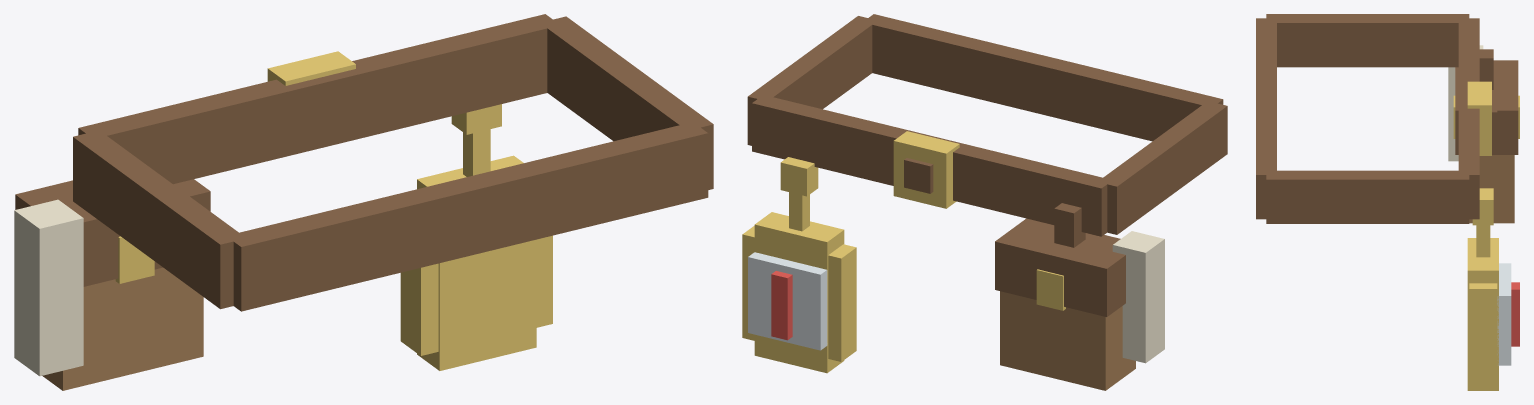
File: cinto_bussola_mapas.glb
The picture shows the model from 3 angles, left to right: view 1: azimuth 30°, elevation 25°; view 2: azimuth 150°, elevation 25°; view 3: azimuth 270°, elevation 25°; orthographic projection. The views are drawn at different scales.
Parts seen in each view (by area): view 1: cinto_bussola_mapas; view 2: cinto_bussola_mapas; view 3: cinto_bussola_mapas.
Boxes of the visible parts, x1,y1,x2,y2 form: cinto_bussola_mapas: [14, 14, 713, 390]; cinto_bussola_mapas: [742, 14, 1227, 390]; cinto_bussola_mapas: [1256, 14, 1519, 390].
Bounding box in the file's own units: 0.615 × 0.355 × 0.3775.
